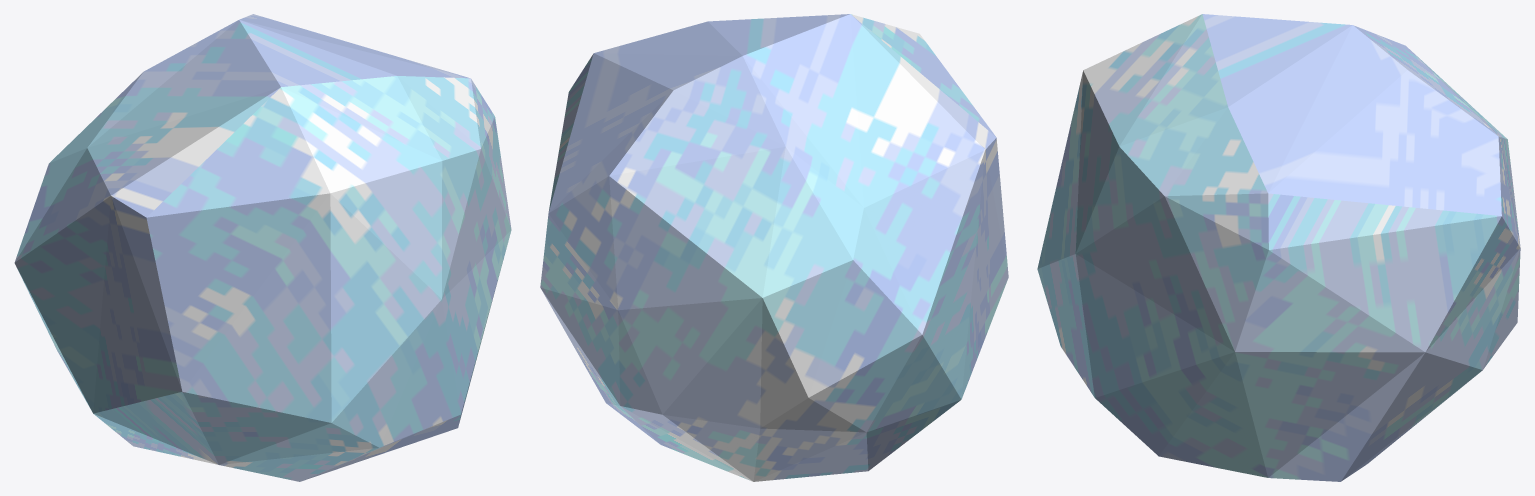
File: snolfball.fbx
The picture shows the model from 3 angles, left to right: view 1: azimuth 30°, elevation 25°; view 2: azimuth 150°, elevation 25°; view 3: azimuth 270°, elevation 25°; orthographic projection.
Visible parts, largest first — view 1: Cube; view 2: Cube; view 3: Cube.
Boxes of the visible parts, box(x1,y1,x2,y2) form: Cube: box(14, 14, 511, 481); Cube: box(540, 14, 1008, 481); Cube: box(1037, 14, 1520, 481).
Bounding box in the file's own units: 214 × 198 × 214.
